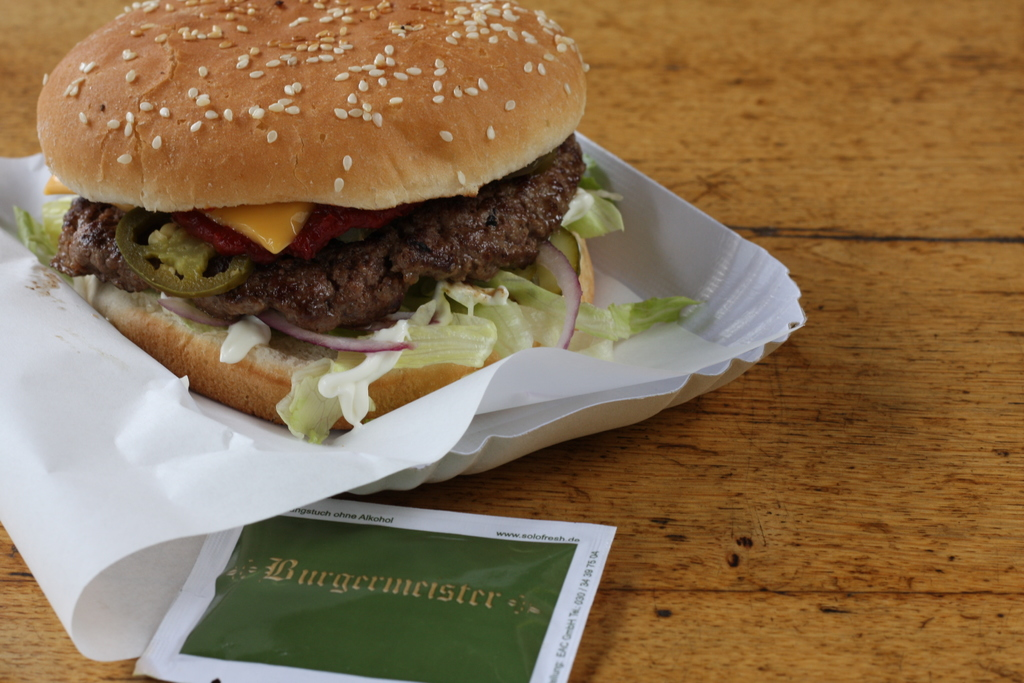Hamburger: (15, 0, 696, 440)
